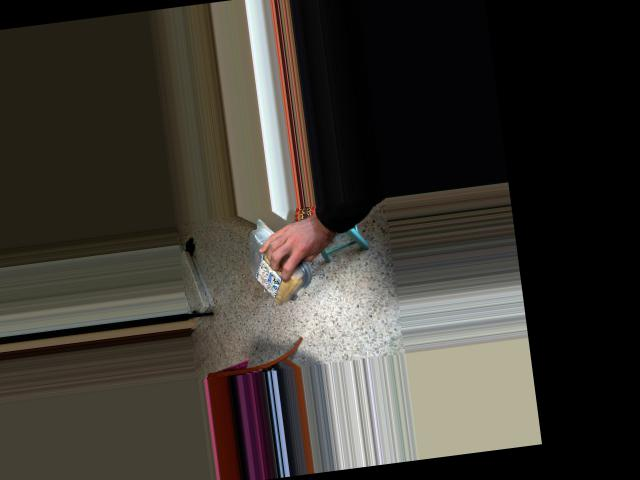cheese: (251, 220, 301, 315)
